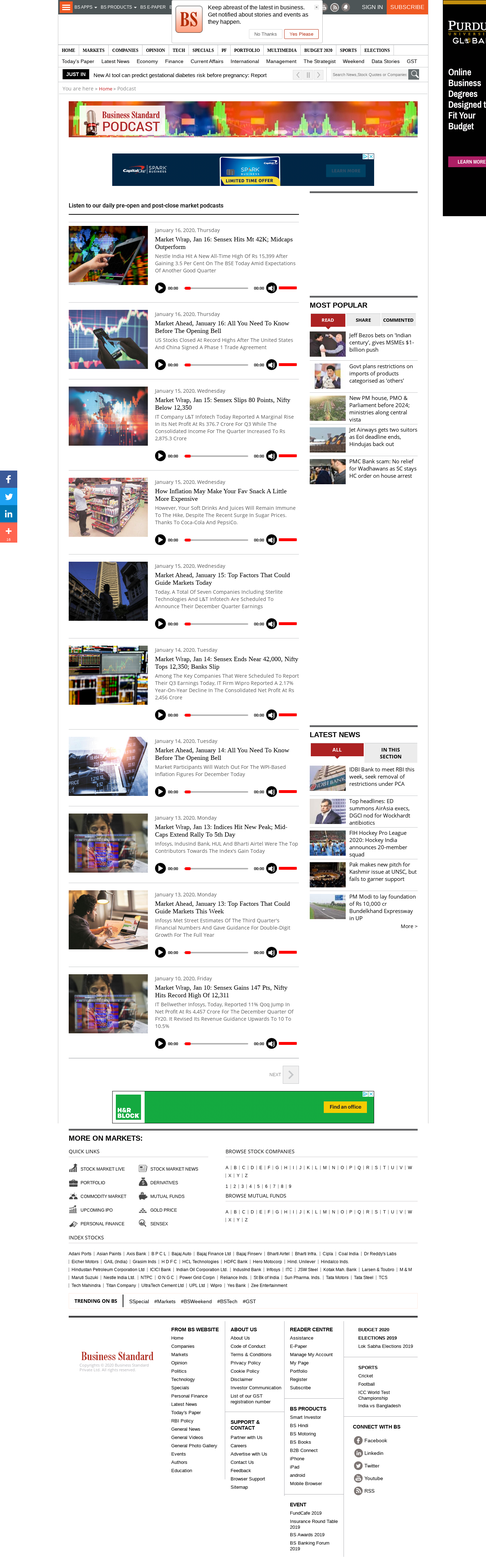fake_button: (318, 158, 377, 183), (319, 1099, 374, 1116), (281, 27, 321, 41)
